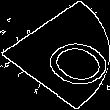O_NW: (9, 22, 101, 88)
